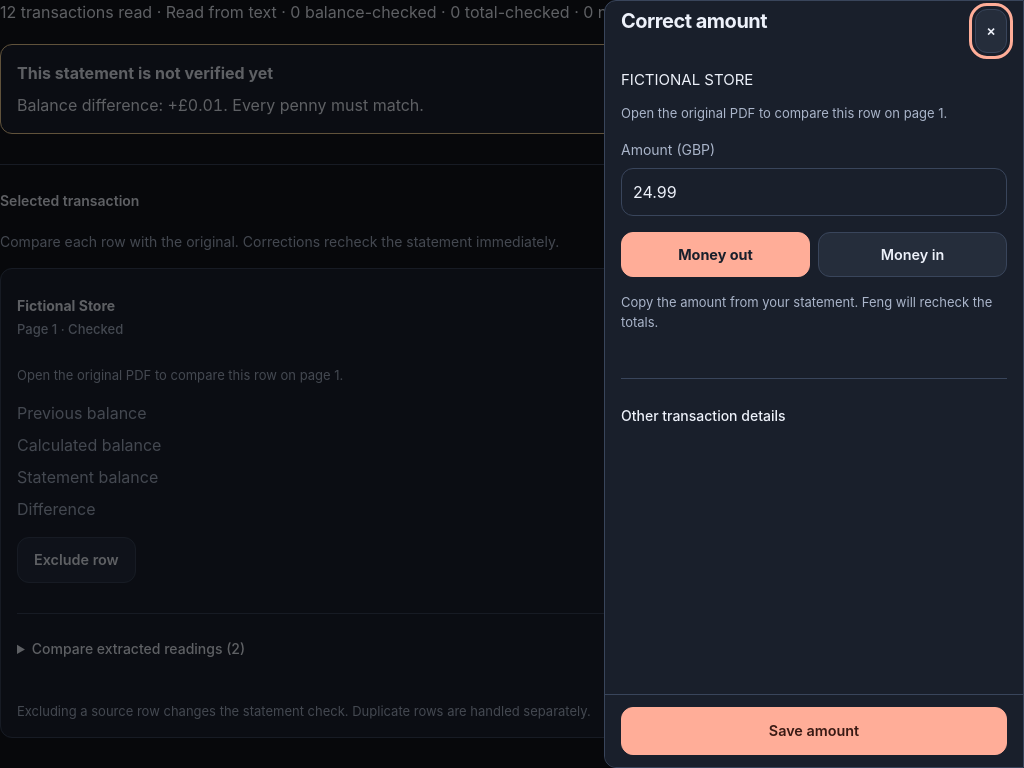
Test: generic PDF evidence review › opens the specifically requested verified row even beyond the first ten rows, without saving it
The image size is (1024, 768).
Check: the dialog "Correct amount" is shown, box [604,0,1023,767]
Check: the field labelled "Amount (GBP)" holds "24.99", box [621,168,1007,216]
Click the button named "Cancel correction": [991, 31] box [975,9,1007,53]
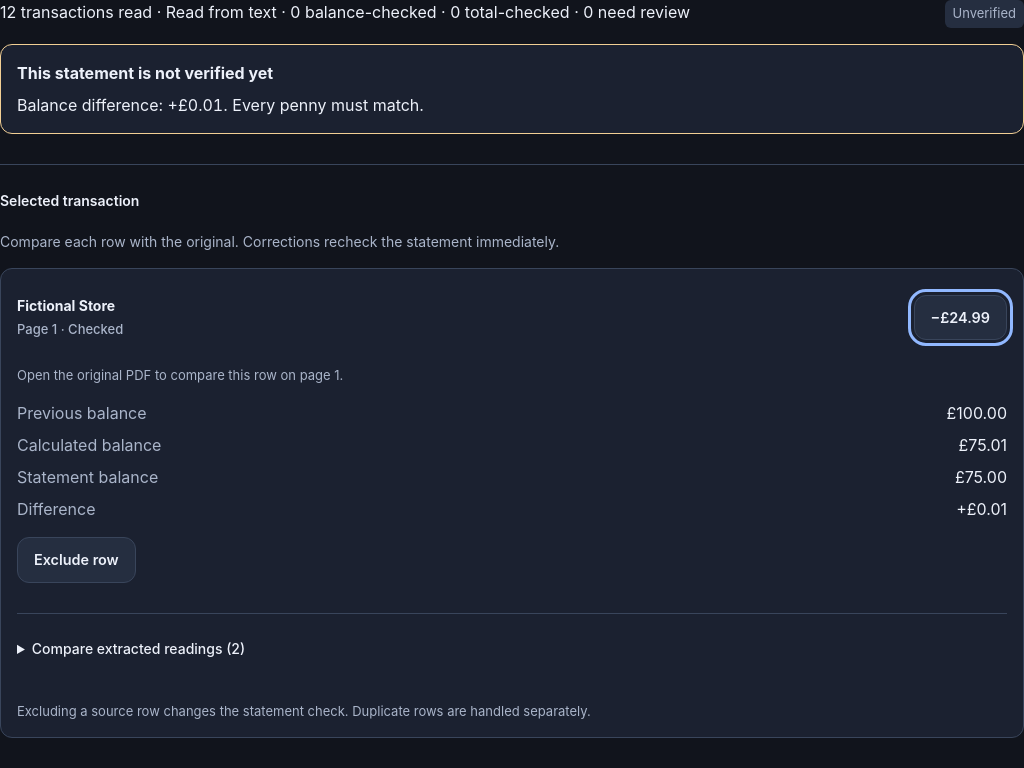
Check: the dialog is gone
